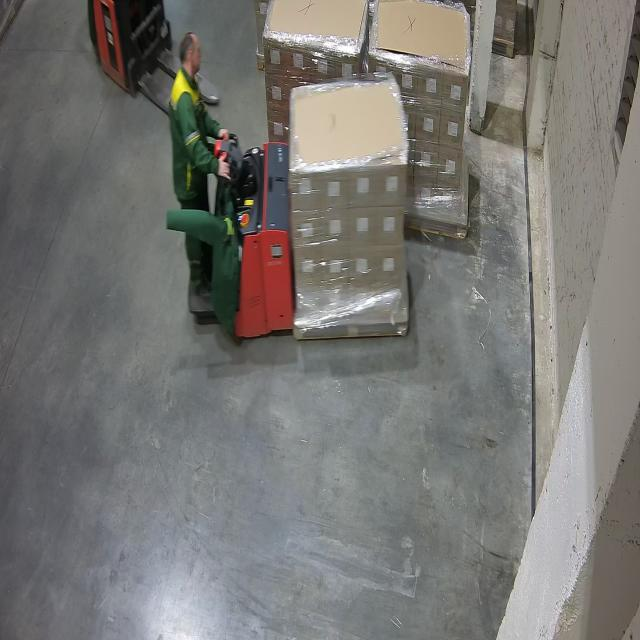pallet: (290, 76, 409, 169), (373, 0, 472, 76), (266, 0, 366, 54)
worker: (160, 29, 292, 344), (81, 0, 223, 140)
